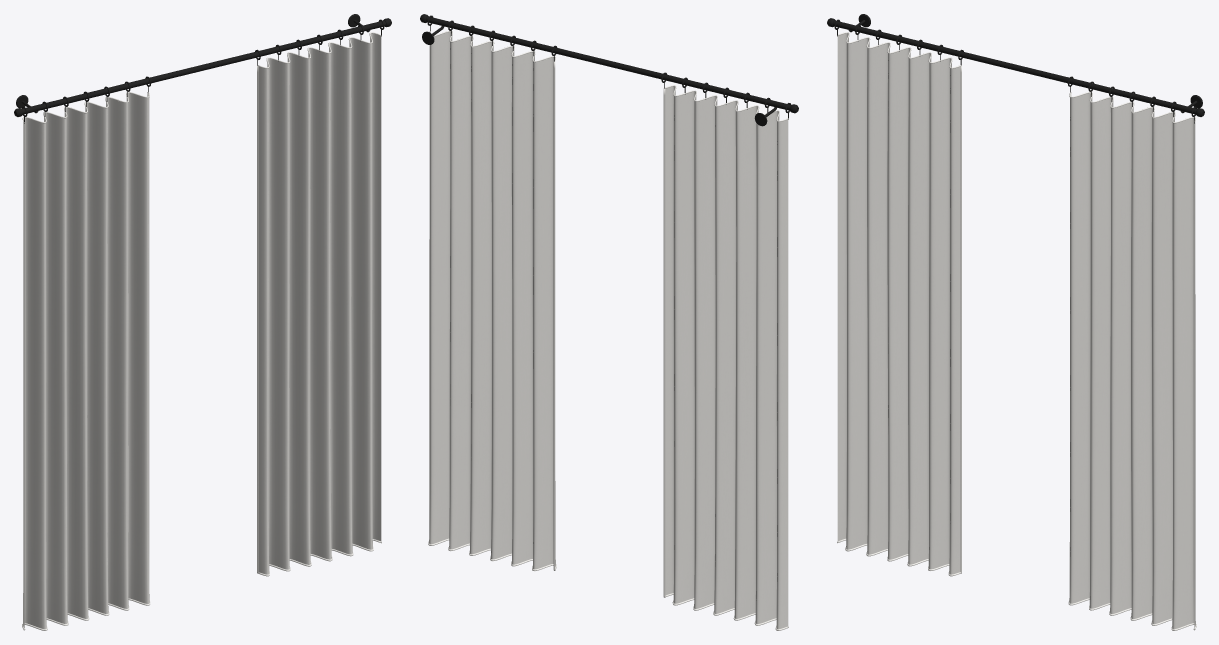
Rendered from cortina_onda_180_c70.glb.
3 renders of one model, left to right at view 1: azimuth 30°, elevation 25°; view 2: azimuth 150°, elevation 25°; view 3: azimuth 330°, elevation 25°, orthographic.
Parts seen in each view (by area): view 1: cortina_onda_180_c70; view 2: cortina_onda_180_c70; view 3: cortina_onda_180_c70.
Part boxes in pixels (box(x1,y1,x2,y2)): cortina_onda_180_c70: box(14, 14, 391, 630); cortina_onda_180_c70: box(420, 14, 798, 630); cortina_onda_180_c70: box(827, 14, 1204, 630).
Bounding box in the file's own units: 1.8 × 2.39 × 0.1789.
2 materials, 1 textured.
